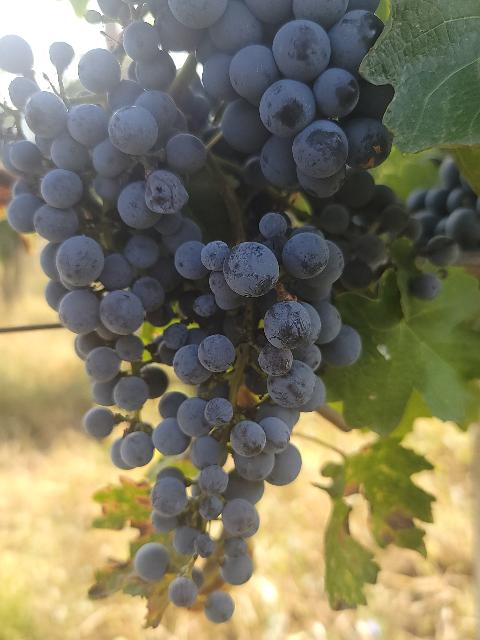grapes: (135, 189, 385, 621), (2, 50, 191, 469), (165, 0, 394, 191)
